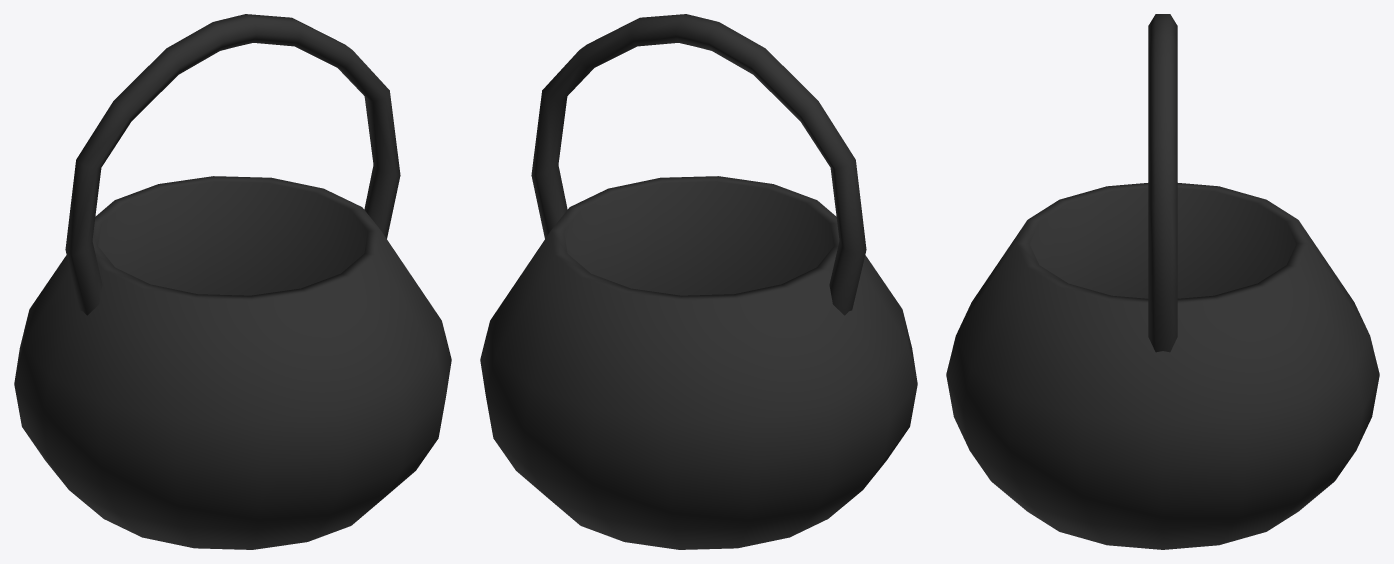
Rendered from Pot_01.fbx.
The picture shows the model from 3 angles, left to right: view 1: azimuth 30°, elevation 25°; view 2: azimuth 150°, elevation 25°; view 3: azimuth 270°, elevation 25°; orthographic projection.
Parts seen in each view (by area): view 1: Pot_01; view 2: Pot_01; view 3: Pot_01.
Part boxes in pixels (left/top/right/bottom): Pot_01: left=14, top=14, right=451, bottom=549; Pot_01: left=480, top=14, right=917, bottom=549; Pot_01: left=946, top=14, right=1379, bottom=549.
Bounding box in the file's own units: 39.67 × 46.29 × 39.67.
